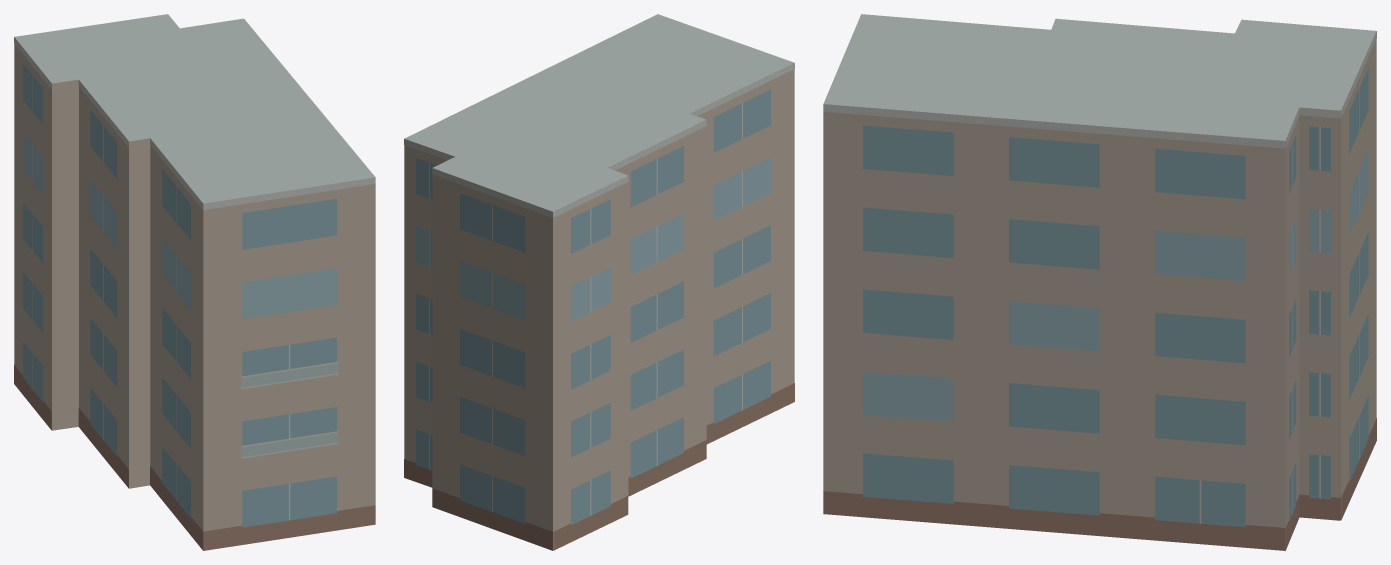
The model's file is survey-upis-32529066.glb.
The picture shows the model from 3 angles, left to right: view 1: azimuth 30°, elevation 25°; view 2: azimuth 150°, elevation 25°; view 3: azimuth 270°, elevation 25°; orthographic projection. The views are drawn at different scales.
Visible parts, largest first — view 1: survey-upis-32529066.tmp; view 2: survey-upis-32529066.tmp; view 3: survey-upis-32529066.tmp.
Part boxes in pixels (x1,y1,x2,y2): survey-upis-32529066.tmp: (14, 14, 375, 550); survey-upis-32529066.tmp: (404, 14, 794, 550); survey-upis-32529066.tmp: (823, 14, 1376, 550).
Bounding box in the file's own units: 8.68 × 13.05 × 15.98.
